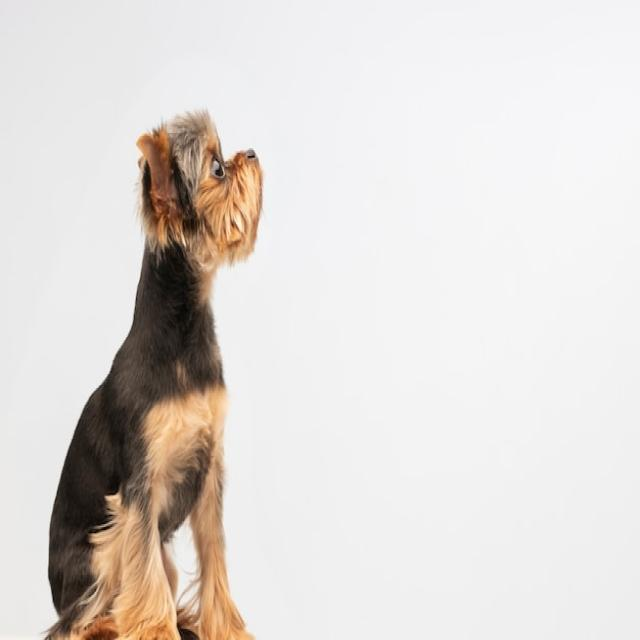Dog: (43, 110, 263, 640)
